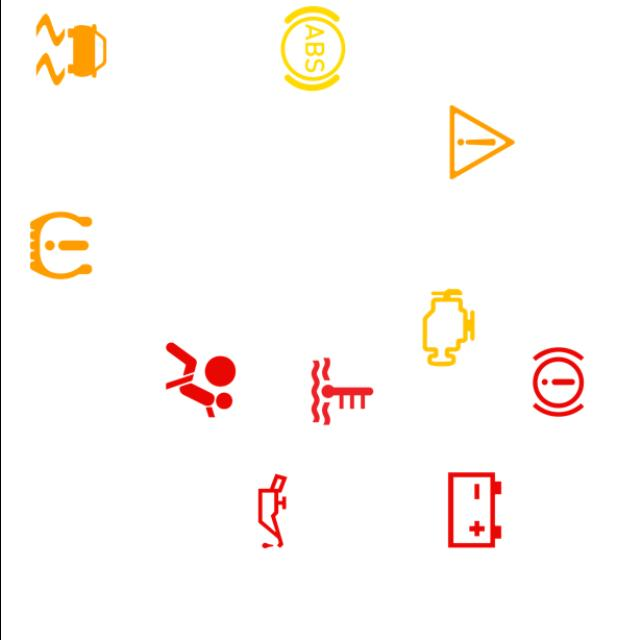Anti Lock Braking System: (266, 2, 358, 95)
Braking System Issue: (511, 336, 604, 428)
Charging System Issue: (427, 464, 520, 556)
Check Engine: (401, 282, 494, 374)
Electronic Stability Problem -ESP-: (24, 3, 117, 96)
Engine Overheating Warning Light: (295, 345, 388, 438)
Low Engine Oil Warning Light: (225, 465, 318, 558)
Low Tire Pressure Warning Light: (13, 199, 106, 292)
Master warning light: (434, 96, 528, 189)
SRS-Airbag: (153, 334, 246, 426)
